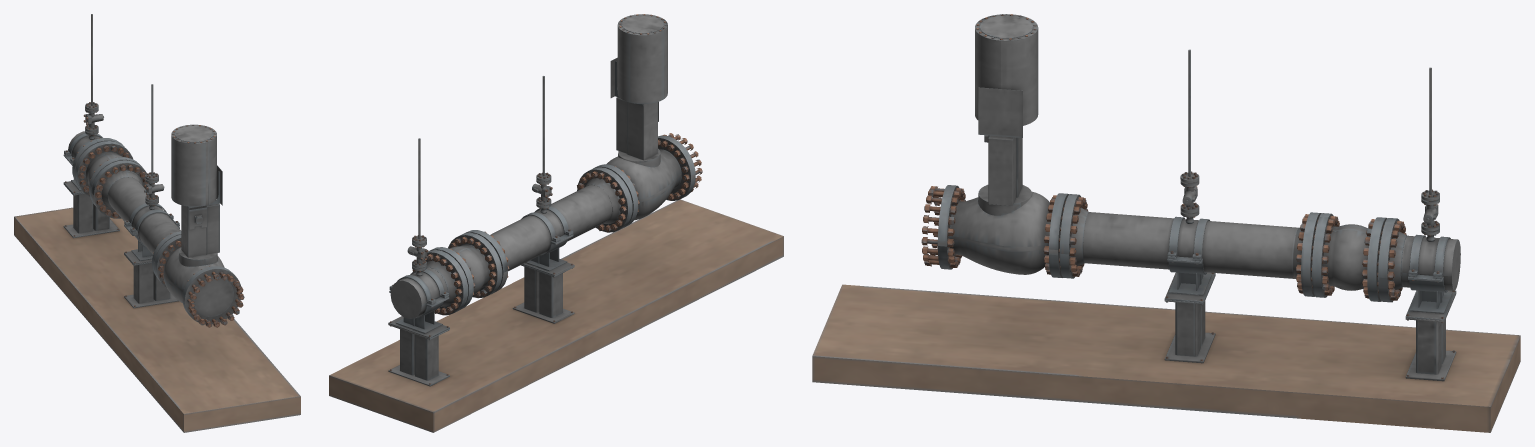
File: EnronFCV-v1.glb
3 views of the same model, side by side, from view 1: azimuth 30°, elevation 25°; view 2: azimuth 150°, elevation 25°; view 3: azimuth 270°, elevation 25° (orthographic). The views are drawn at different scales.
Parts seen in each view (by area): view 1: EnronFCV; view 2: EnronFCV; view 3: EnronFCV.
Boxes of the visible parts, x1=… form: EnronFCV: x1=14, y1=14, x2=300, y2=432; EnronFCV: x1=329, y1=14, x2=783, y2=432; EnronFCV: x1=812, y1=14, x2=1520, y2=432.
Bounding box in the file's own units: 0.6409 × 0.8073 × 1.57.
Materials: 1 (1 with a texture image).
